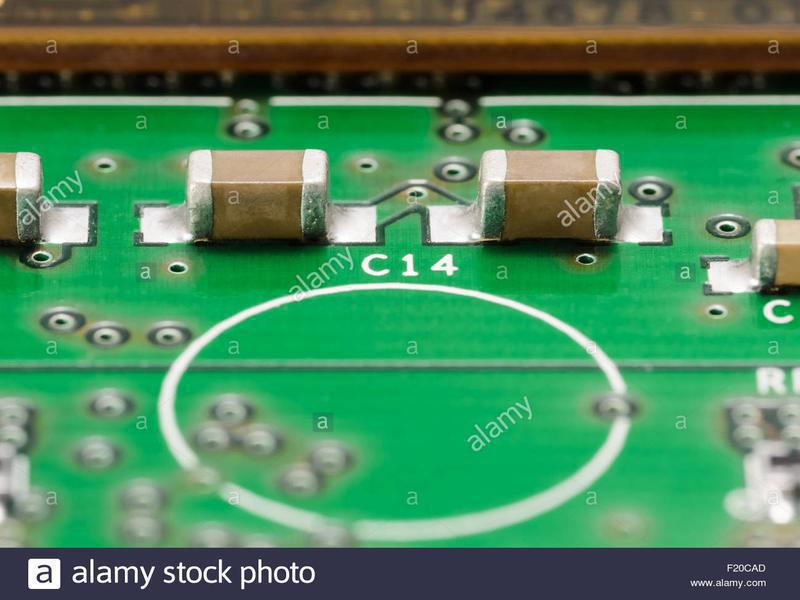SMD capacitor: (471, 140, 630, 253), (178, 147, 333, 250)
